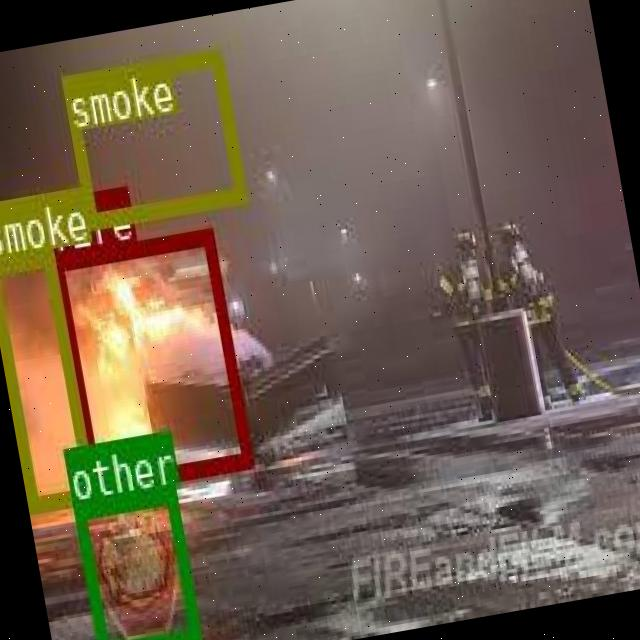fire: (50, 228, 251, 493)
smoke: (59, 46, 245, 228), (0, 249, 92, 508)
